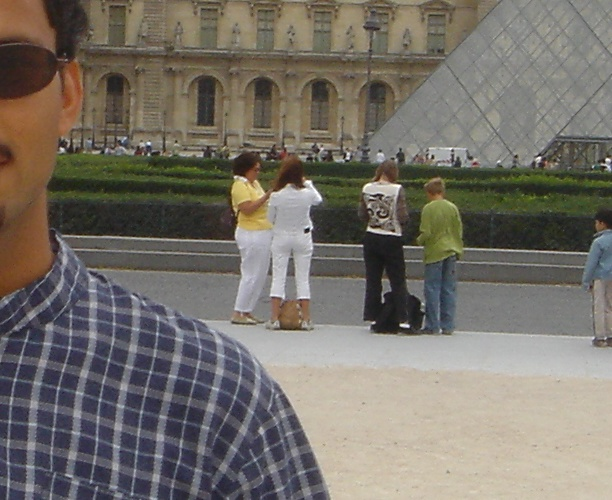person: (347, 156, 415, 325), (264, 153, 316, 332), (220, 153, 275, 322), (409, 180, 467, 336)
